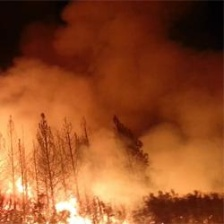fire: (6, 154, 157, 224)
smoke: (7, 20, 199, 146)
